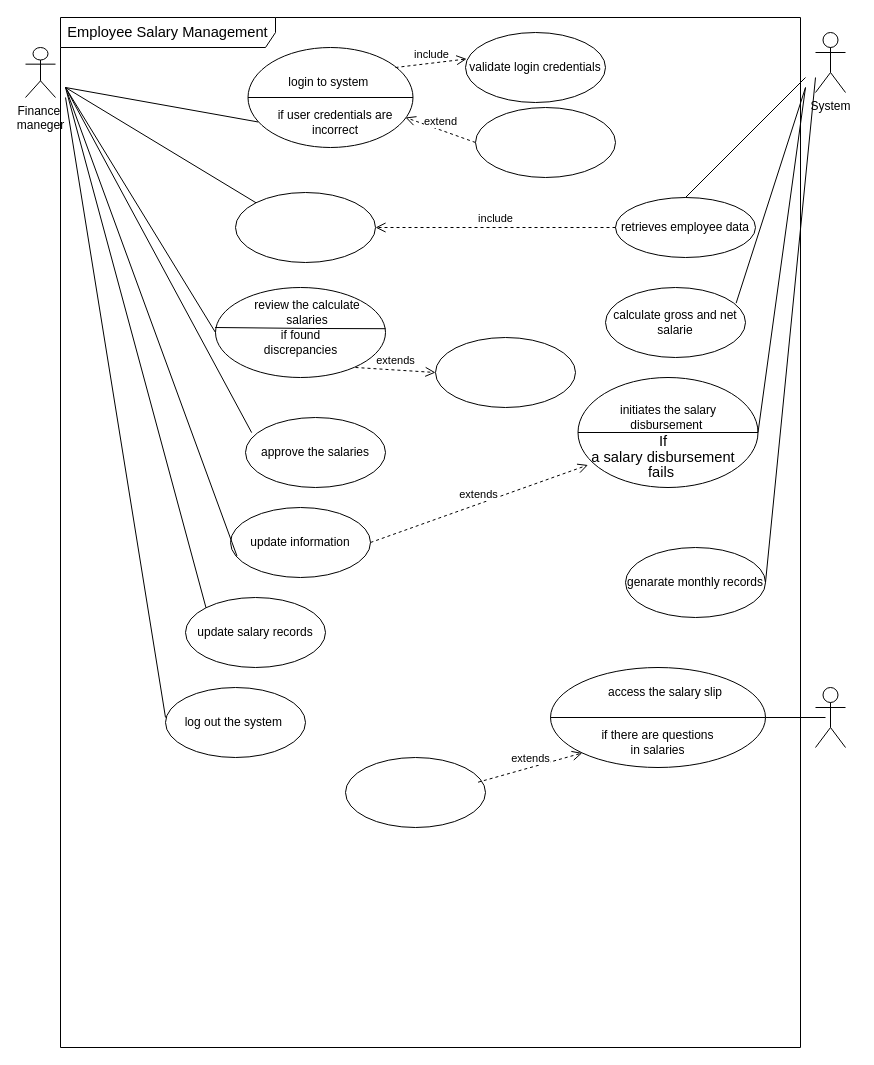
Image size: 874x1065. Some labels were removed from this diagram. Each missing label, with the centre of its shape:
correct error and re-cal salary: the point at 505,372
Display error message: the point at 545,142
employee: the point at 830,717
initiate salary calculation: the point at 305,227
report in finance manager: the point at 415,792
